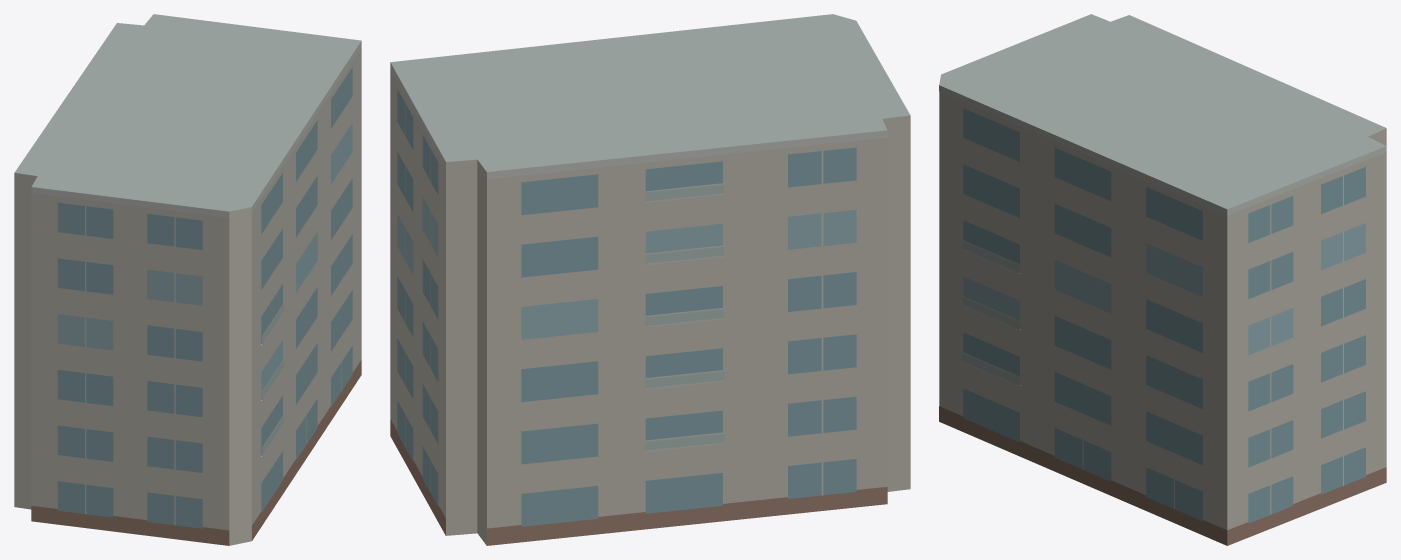
Rendered from survey-upis-32888395.glb.
3 views of the same model, side by side, from view 1: azimuth 30°, elevation 25°; view 2: azimuth 150°, elevation 25°; view 3: azimuth 270°, elevation 25° (orthographic). The views are drawn at different scales.
Visible parts, largest first — view 1: survey-upis-32888395.tmp; view 2: survey-upis-32888395.tmp; view 3: survey-upis-32888395.tmp.
Part boxes in pixels (left/top/right/bottom): survey-upis-32888395.tmp: left=14, top=14, right=361, bottom=545; survey-upis-32888395.tmp: left=390, top=14, right=910, bottom=545; survey-upis-32888395.tmp: left=939, top=14, right=1386, bottom=545.
Bounding box in the file's own units: 16.44 × 13.2 × 15.92.
